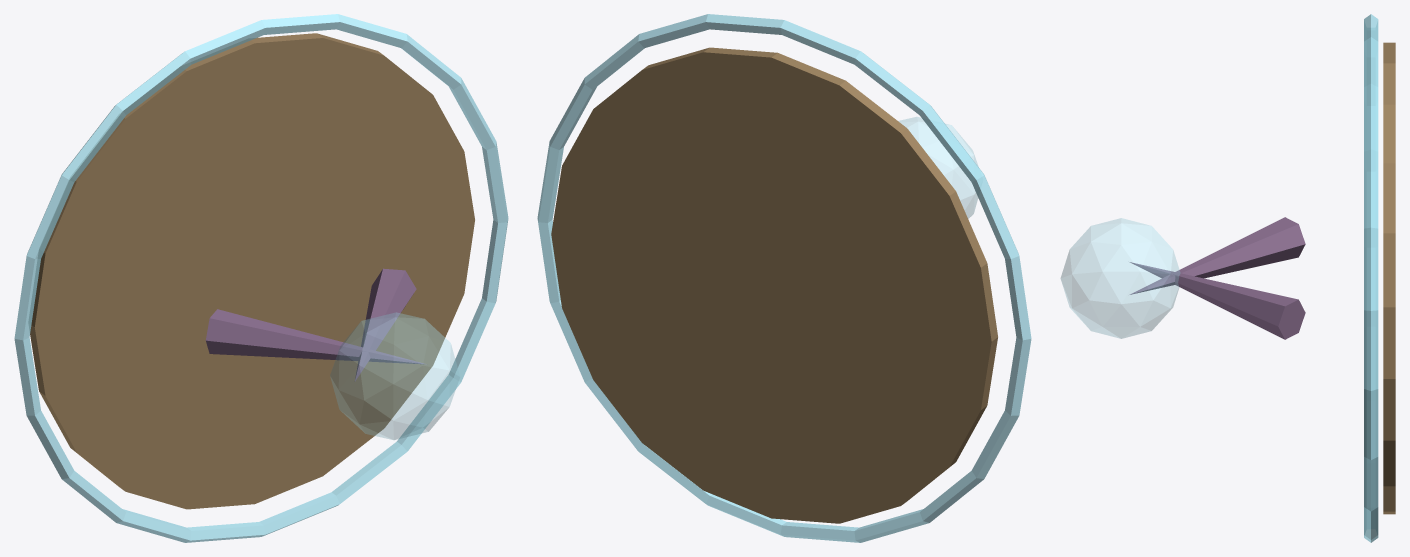
Rendered from 07_weather_terrain_nature_effect.glb.
The picture shows the model from 3 angles, left to right: view 1: azimuth 30°, elevation 25°; view 2: azimuth 150°, elevation 25°; view 3: azimuth 270°, elevation 25°; orthographic projection. The views are drawn at different scales.
Parts seen in each view (by area): view 1: terrain_patch, weather_boundary, weather_orb, root_spike_l, root_spike_r; view 2: terrain_patch, weather_boundary, weather_orb; view 3: weather_orb, weather_boundary, terrain_patch, root_spike_r, root_spike_l.
Boxes of the visible parts, left/top/right/bottom form: terrain_patch: left=29, top=33, right=474, bottom=509; weather_boundary: left=14, top=14, right=508, bottom=542; weather_orb: left=330, top=312, right=459, bottom=439; root_spike_l: left=205, top=309, right=425, bottom=364; root_spike_r: left=354, top=268, right=416, bottom=381; terrain_patch: left=551, top=47, right=997, bottom=523; weather_boundary: left=537, top=14, right=1031, bottom=542; weather_orb: left=898, top=117, right=978, bottom=218; weather_orb: left=1060, top=218, right=1180, bottom=338; weather_boundary: left=1364, top=14, right=1378, bottom=542; terrain_patch: left=1383, top=42, right=1395, bottom=514; root_spike_r: left=1130, top=262, right=1305, bottom=339; root_spike_l: left=1130, top=217, right=1305, bottom=294.
Size of the model in its own units: 1.75 by 1.75 by 1.1.
